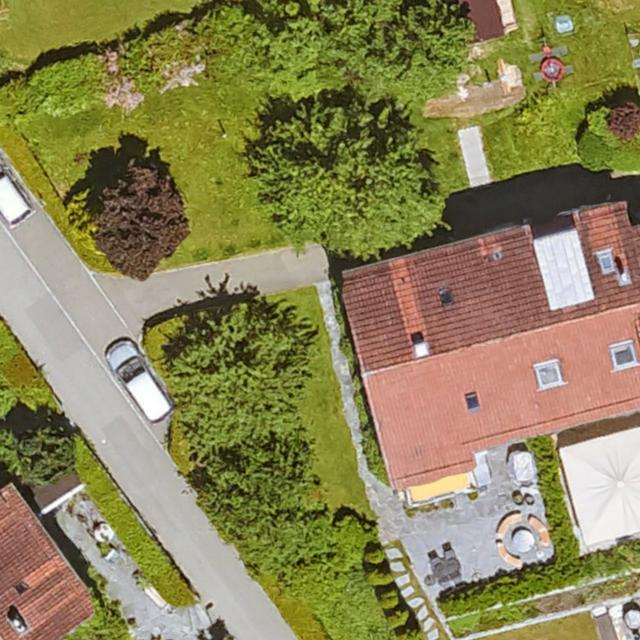tree: (258, 105, 376, 226), (176, 301, 308, 406), (209, 442, 316, 555), (338, 156, 435, 260), (94, 163, 185, 271), (195, 394, 300, 465), (382, 6, 468, 87), (19, 424, 71, 484), (610, 103, 640, 144)
